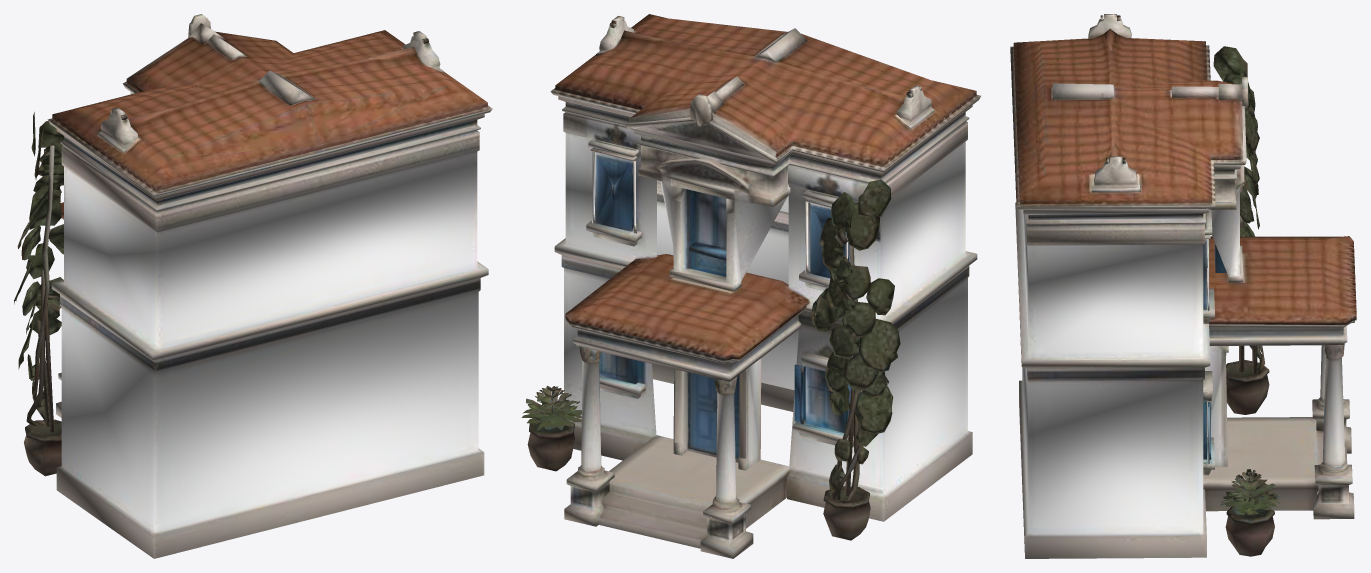
File: greek_townhouse.glb
The picture shows the model from 3 angles, left to right: view 1: azimuth 30°, elevation 25°; view 2: azimuth 150°, elevation 25°; view 3: azimuth 270°, elevation 25°; orthographic projection. The views are drawn at different scales.
Parts seen in each view (by area): view 1: greek_townhouse; view 2: greek_townhouse; view 3: greek_townhouse.
Boxes of the visible parts, <box> form: greek_townhouse: <box>14,14,492,558</box>; greek_townhouse: <box>521,14,980,558</box>; greek_townhouse: <box>1010,14,1356,558</box>.
Bounding box in the file's own units: 6.53 × 6.99 × 5.48.
1 material, 1 textured.
